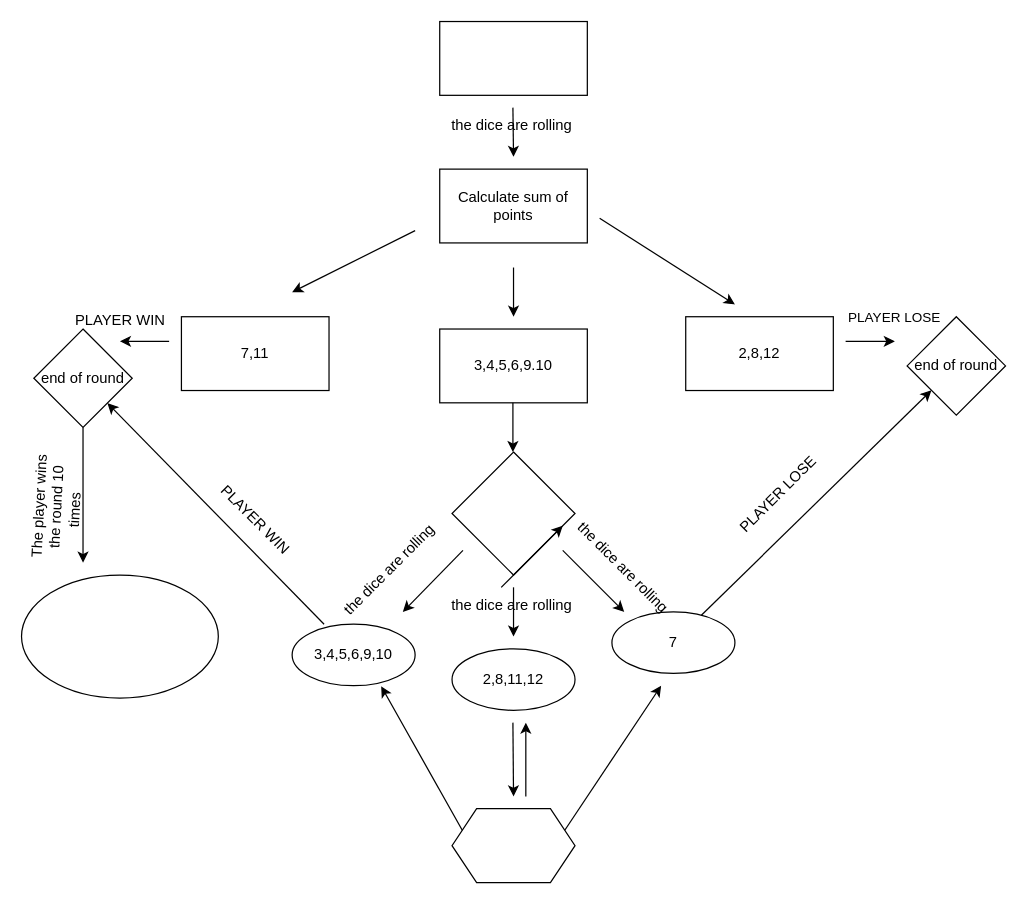
Image size: 1027x904. Some labels were removed from this diagram. Each missing label, with the centre of its shape:
"Point" round continues: point 513,845
Message "Congratulation! Name won the game" appears.: point 119,636
Roll Dices (Start): point 512,57
Special round "Point": point 513,513
